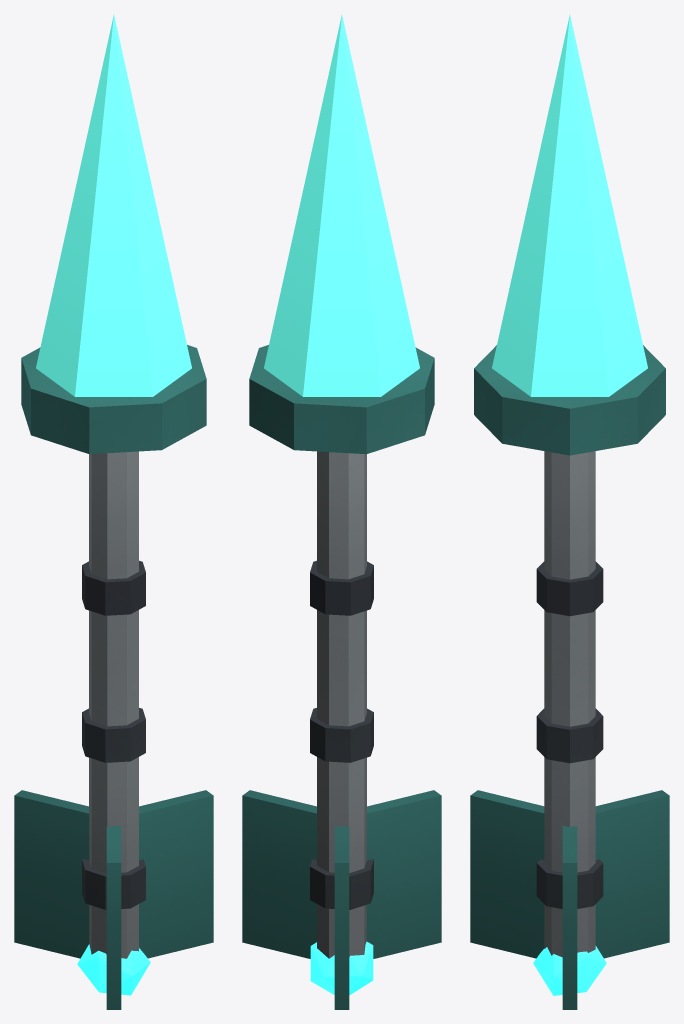
3 views of the same model, side by side, from view 1: azimuth 30°, elevation 25°; view 2: azimuth 150°, elevation 25°; view 3: azimuth 270°, elevation 25° (orthographic).
Parts seen in each view (by area): view 1: anchor-shard_metal, anchor-shard_crystal, anchor-shard_glow; view 2: anchor-shard_metal, anchor-shard_crystal, anchor-shard_glow; view 3: anchor-shard_metal, anchor-shard_crystal, anchor-shard_glow.
Boxes of the visible parts, <box> form: anchor-shard_metal: <box>14,345,213,1009</box>; anchor-shard_crystal: <box>36,15,191,396</box>; anchor-shard_glow: <box>77,944,150,995</box>; anchor-shard_metal: <box>242,345,441,1009</box>; anchor-shard_crystal: <box>264,15,419,396</box>; anchor-shard_glow: <box>310,941,373,995</box>; anchor-shard_metal: <box>470,345,669,1009</box>; anchor-shard_crystal: <box>492,15,647,396</box>; anchor-shard_glow: <box>533,946,606,995</box>.
Size of the model in its own units: 0.28 by 1.46 by 0.2698.
3 materials, 1 textured.
